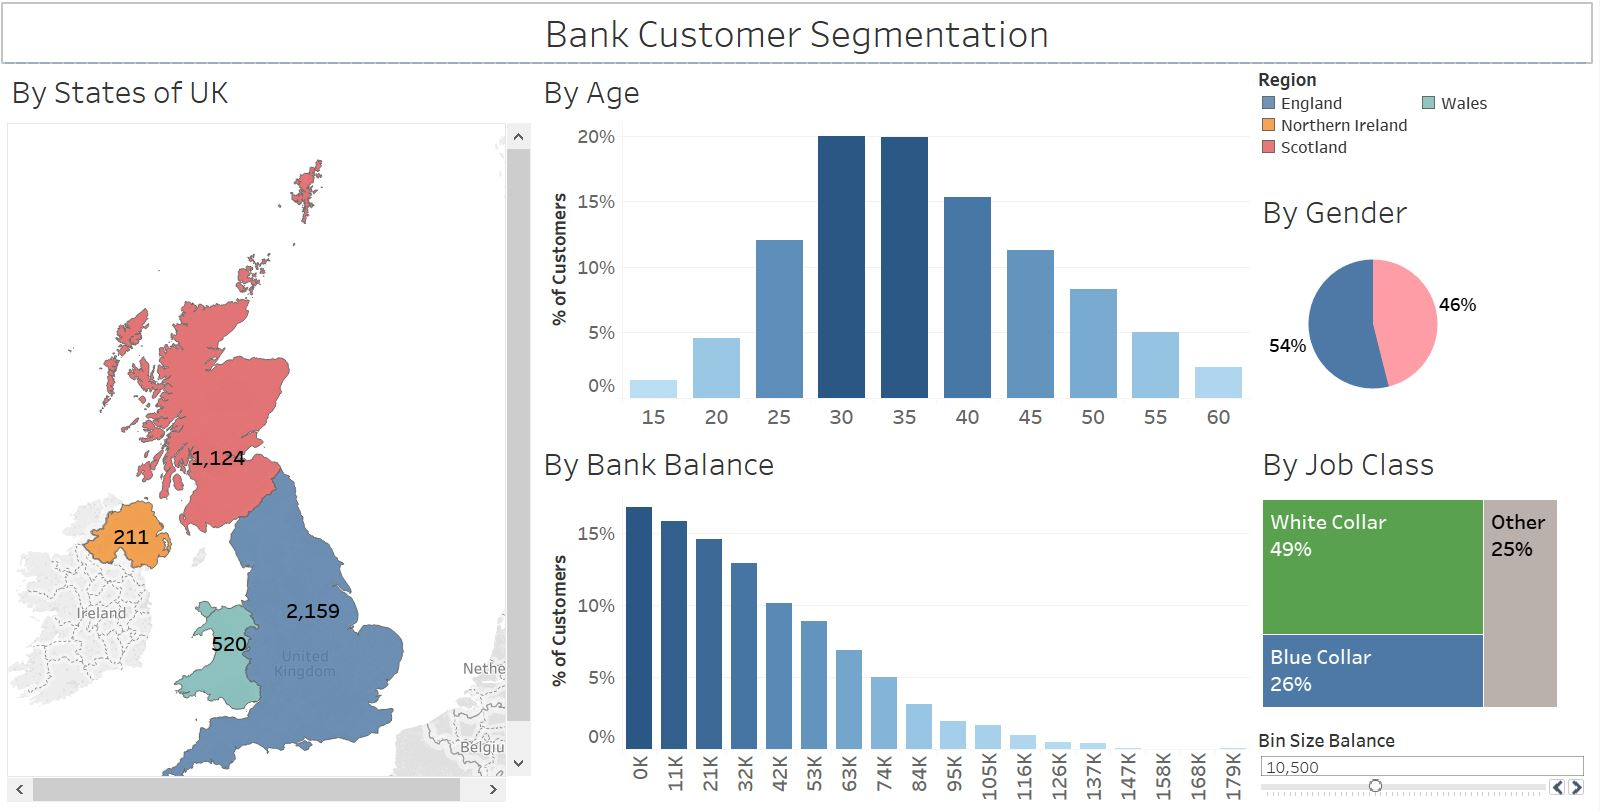

The dashboard page shown, as its layout file describes it:
{"tool":"tableau","page":{"name":"Bank Customer Segmentation","canvas":[1000,1000],"units":"permille","ordinal":0},"visuals":[{"type":"title","box":[5,9.8,990,70.9]},{"type":"worksheet","title":"Map","mark":"Multipolygon","box":[5,80.7,331.9,909.5]},{"type":"worksheet","title":"Age","mark":"Bar","rows":["Number of Records"],"cols":["Age (bin)"],"box":[336.9,80.7,448.1,454.8]},{"type":"legend","title":"Map","param":"[federated.1k6d9ce0ji9jzc1ejf8wb0ts6cpu].[none:Region:nk]","box":[784.9,80.7,210.1,146.7]},{"type":"worksheet","title":"Gender","mark":"Pie","box":[784.9,227.4,210.1,308.1]},{"type":"worksheet","title":"Balance","mark":"Bar","rows":["Number of Records"],"cols":["Balance (bin)"],"box":[336.9,535.5,448.1,454.8]},{"type":"worksheet","title":"Tree Map","mark":"Automatic","box":[784.9,535.5,210.1,353.3]},{"type":"parameter","param":"[Parameters].[Parameter 1]","box":[784.9,888.8,210.1,101.5]}]}

Visuals, with their boxes on the dashboard's canvas, which has no fixed pixel size, in thousandths of its width and height (x1, y1, x2, y2). These are canvas units, not pixel positions in the 1600x811 screenshot, which may show the page scaled, cropped or inside an application window:
title: [5, 10, 995, 81]
"Map" worksheet (Multipolygon marks): [5, 81, 337, 990]
"Age" worksheet (Bar marks): [337, 81, 785, 536]
"Map" legend: [785, 81, 995, 227]
"Gender" worksheet (Pie marks): [785, 227, 995, 536]
"Balance" worksheet (Bar marks): [337, 536, 785, 990]
"Tree Map" worksheet: [785, 536, 995, 889]
parameter: [785, 889, 995, 990]
